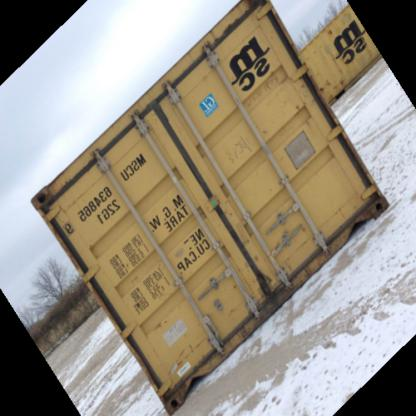Damage: (239, 250, 284, 312), (161, 332, 207, 384), (238, 68, 288, 102), (219, 136, 255, 164), (292, 100, 313, 131), (194, 201, 212, 230), (34, 188, 52, 209)
